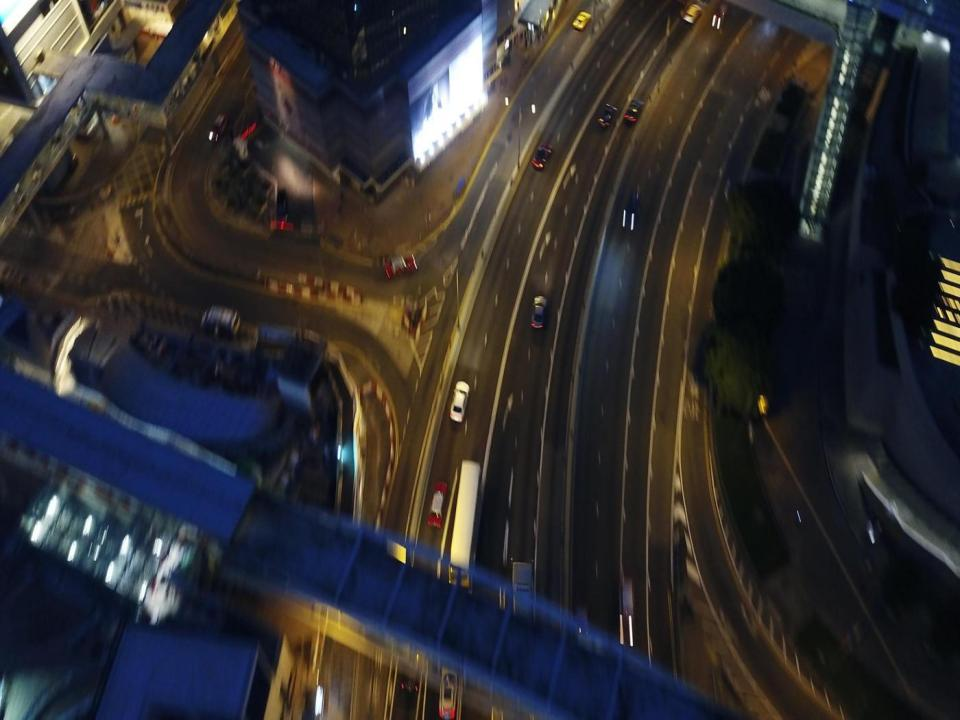bus: (450, 459, 480, 588), (511, 562, 534, 687)
car: (438, 657, 458, 716), (619, 578, 635, 646), (383, 251, 419, 280), (402, 640, 422, 691), (428, 482, 447, 527), (621, 190, 643, 228), (450, 381, 469, 423), (712, 2, 732, 30), (532, 144, 552, 168), (532, 296, 546, 329), (625, 99, 644, 122), (598, 104, 616, 128), (573, 11, 592, 30), (684, 3, 702, 22)
van: (209, 115, 228, 142)
